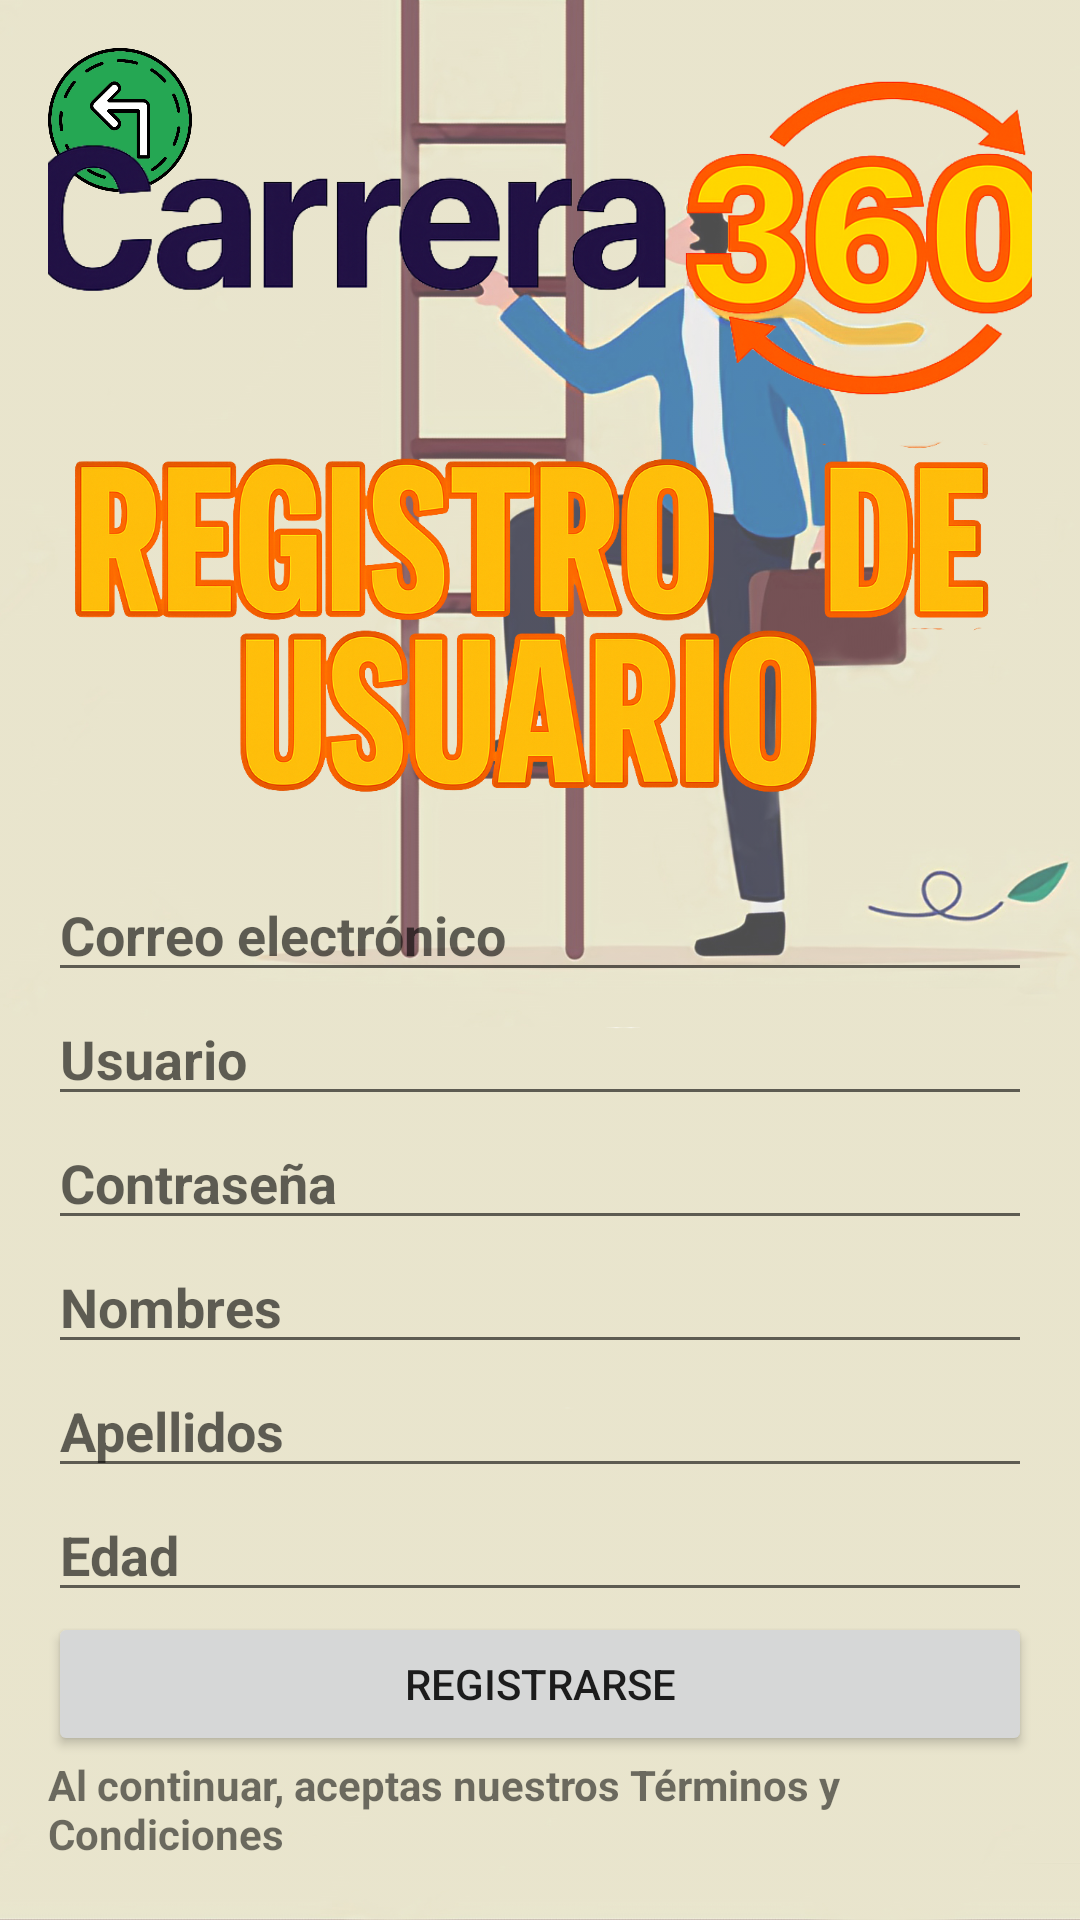

Icons on this 1080w x 1920h Android screen, each with its box as [left=x1, top=y1, right=x2, bottom=y2]:
Regresar a Aprender: [left=48, top=48, right=192, bottom=192]
